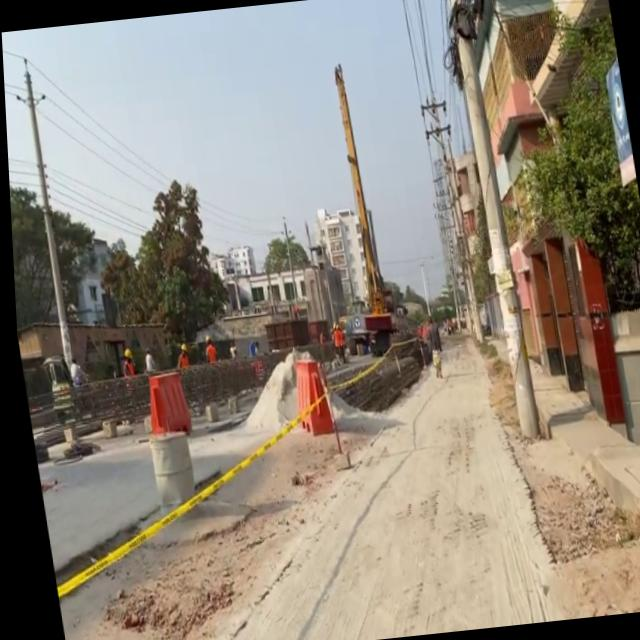Construction-barrier: (460, 326, 552, 570), (578, 434, 640, 581)
Fallen-tree: (425, 348, 441, 378)
Garbage: (132, 370, 198, 508), (284, 355, 333, 437), (136, 370, 188, 438)
Garbage-bin: (63, 356, 83, 386), (198, 335, 214, 363), (169, 342, 186, 368), (138, 348, 153, 373)
Light-pole: (440, 0, 538, 431), (14, 58, 73, 376)
Pothole: (475, 315, 640, 595)
Traffic-cone: (299, 59, 410, 358)
